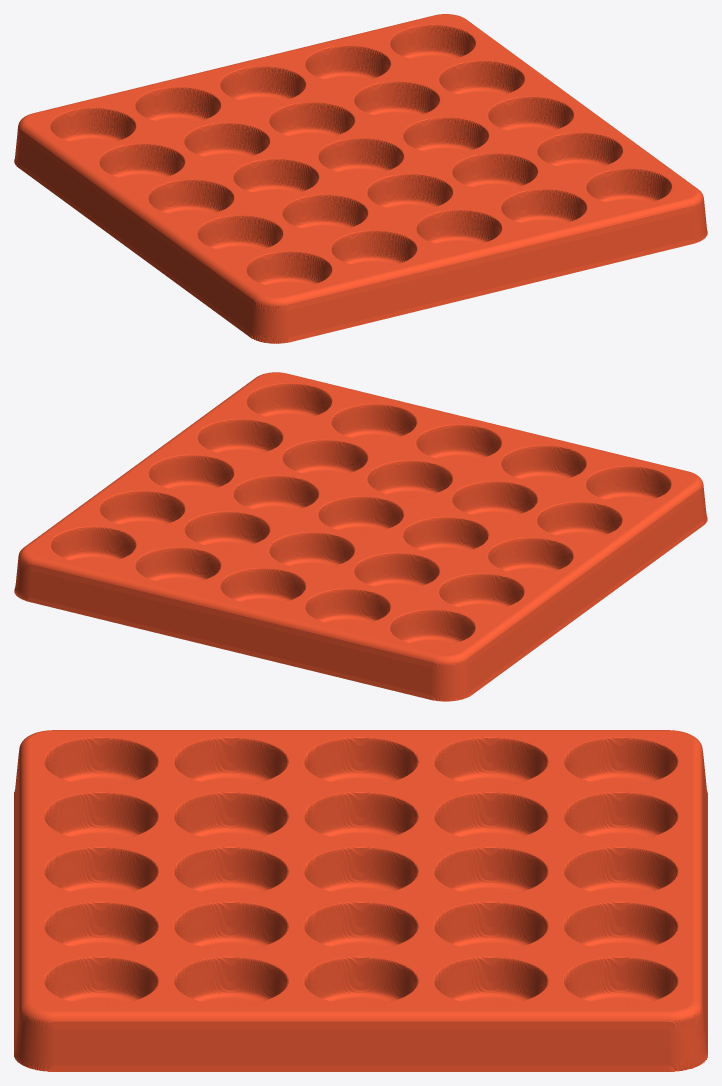
The model's file is mold.glb.
The picture shows the model from 3 angles, top to bottom: view 1: azimuth 30°, elevation 25°; view 2: azimuth 150°, elevation 25°; view 3: azimuth 270°, elevation 25°; orthographic projection. The views are drawn at different scales.
Parts seen in each view (by area): view 1: geometry_0; view 2: geometry_0; view 3: geometry_0.
Part boxes in pixels (x1,y1,x2,y2): geometry_0: (14,14,707,343); geometry_0: (14,372,707,701); geometry_0: (14,730,707,1071).
Bounding box in the file's own units: 0.1584 × 0.0136 × 0.1584.
